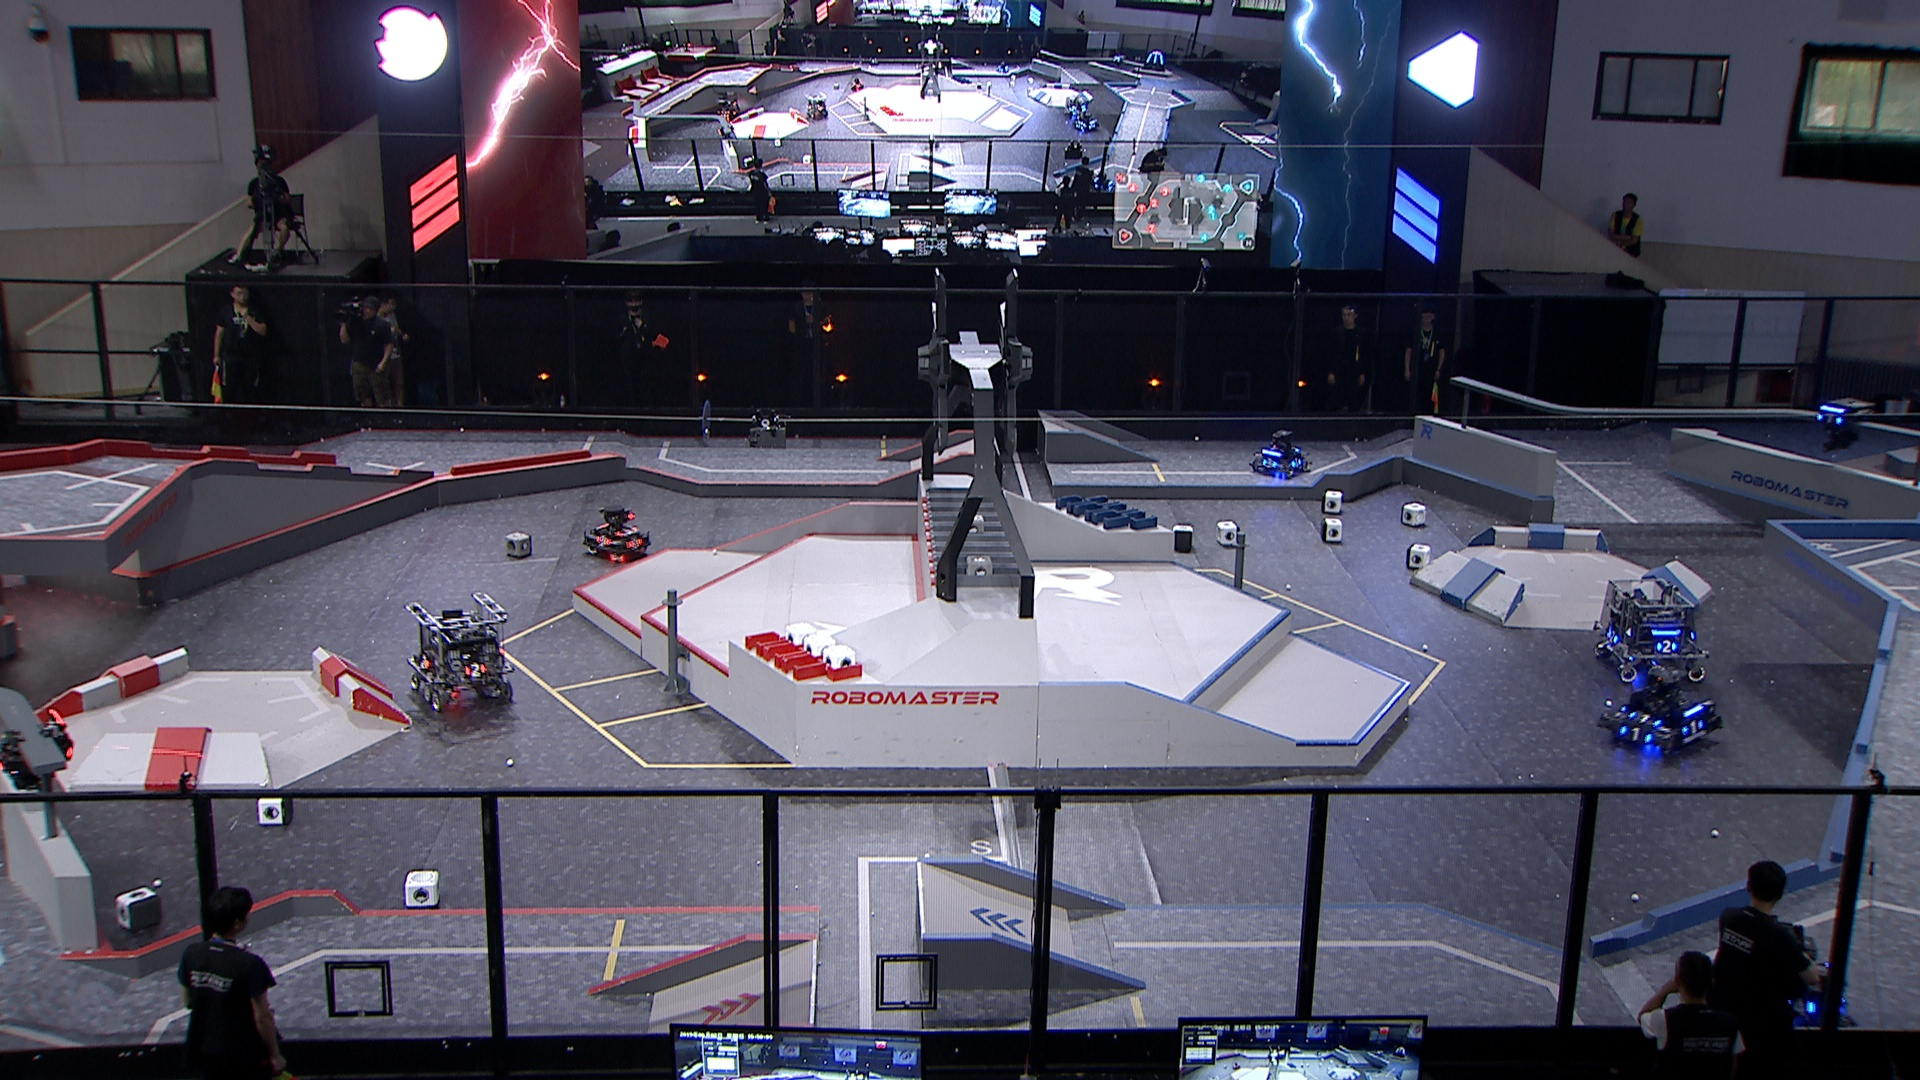armor: (1617, 721, 1655, 746), (1627, 707, 1660, 728), (1812, 409, 1844, 429), (1784, 996, 1815, 1015), (1679, 717, 1706, 738), (460, 659, 489, 678), (1654, 637, 1679, 655), (613, 524, 641, 538), (1605, 626, 1622, 647), (417, 650, 433, 673), (593, 531, 612, 550), (626, 534, 644, 551), (1261, 456, 1280, 471), (1291, 456, 1302, 471)
car: (398, 585, 517, 717), (1593, 575, 1713, 684), (1596, 665, 1722, 764), (1756, 928, 1859, 1033), (580, 502, 651, 566), (1249, 427, 1313, 480)
ignore: (806, 90, 829, 124), (713, 90, 741, 116), (1073, 109, 1101, 135), (1141, 45, 1167, 69), (1067, 98, 1091, 117), (716, 116, 735, 140), (1110, 49, 1126, 71), (849, 76, 866, 94)
watcher: (1807, 392, 1870, 458)
